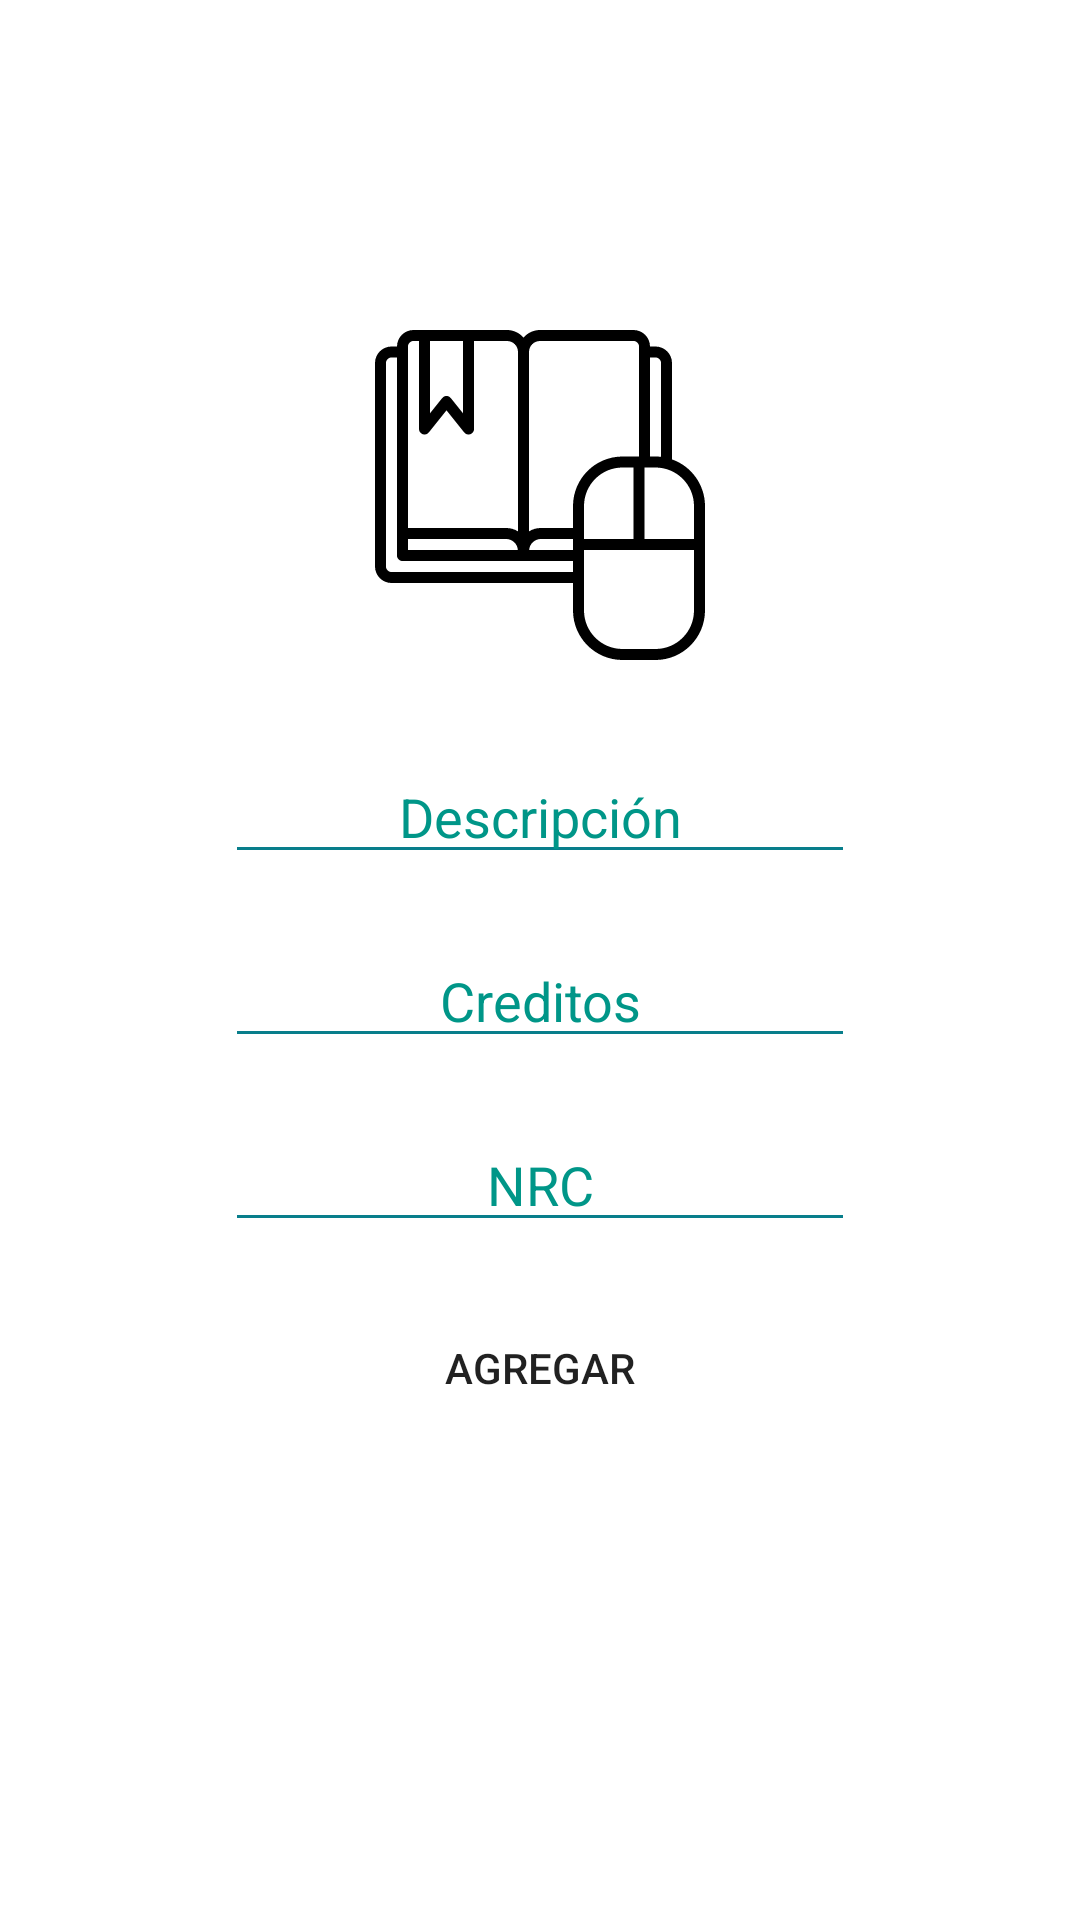

Locate icon controls on the screen. Image size 1080px×1920px, boxes as (x1,y1,x2,y2).
curso: (375,330,705,660)
